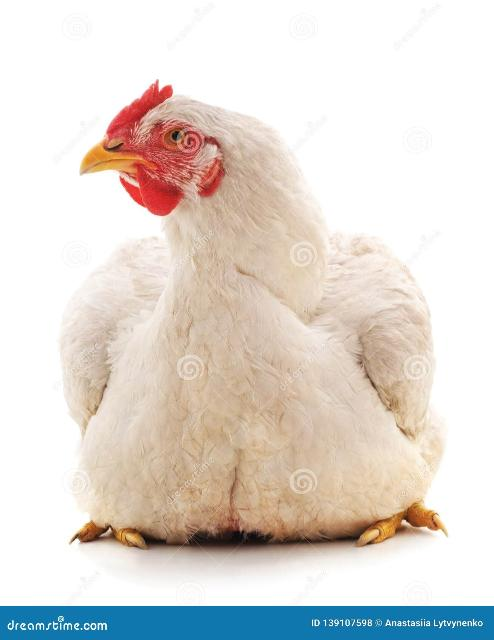Chicken: (56, 80, 451, 549)
